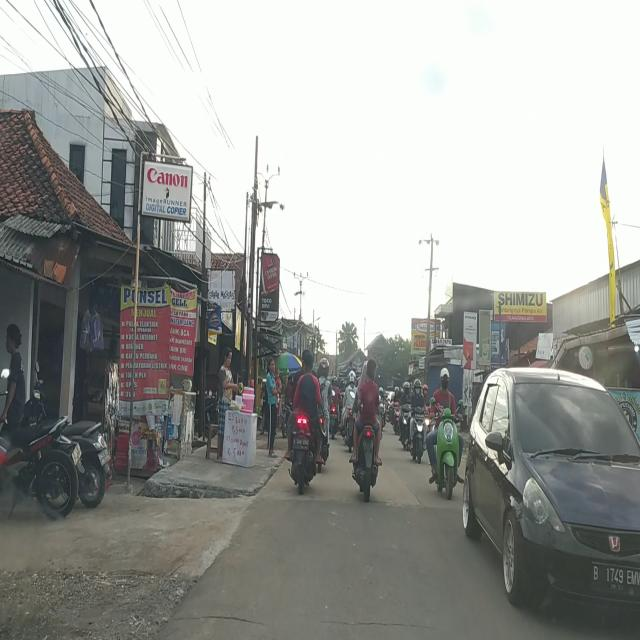Sewer Cover: (307, 603, 433, 633), (168, 605, 266, 625)
